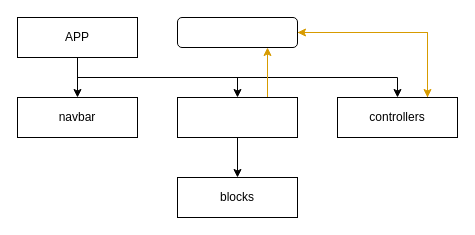
Image size: 475x235. Some labels were removed from this diagram. Each missing label, with the centre of its shape:
"click.service" goes at point 237,32.
"main-game" goes at point 237,117.
